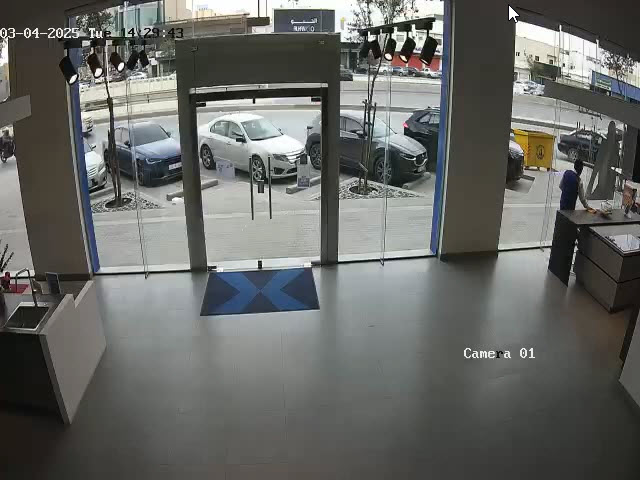employee: (559, 159, 595, 213)
